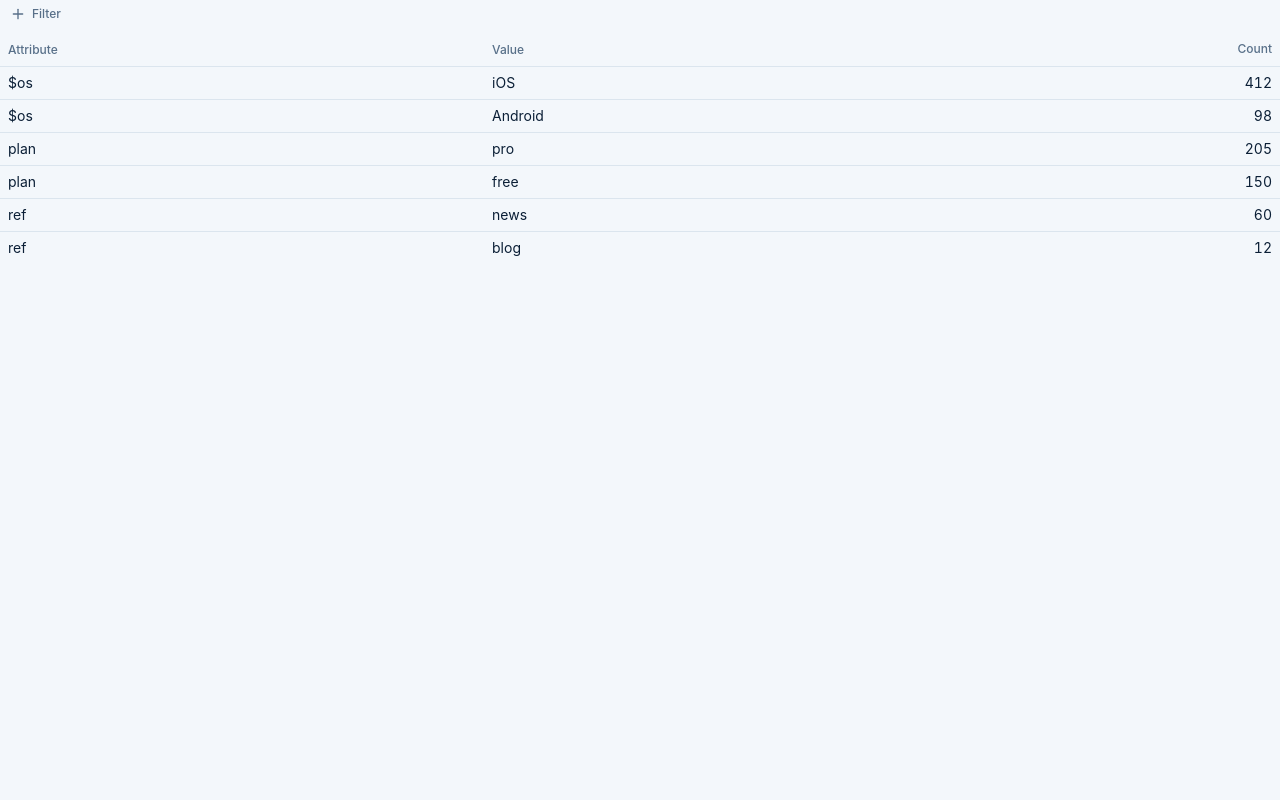
Test: table › asks a remote table's loader for the picker's values
Click the button "Filter": point(36, 14) [0,0,71,28]
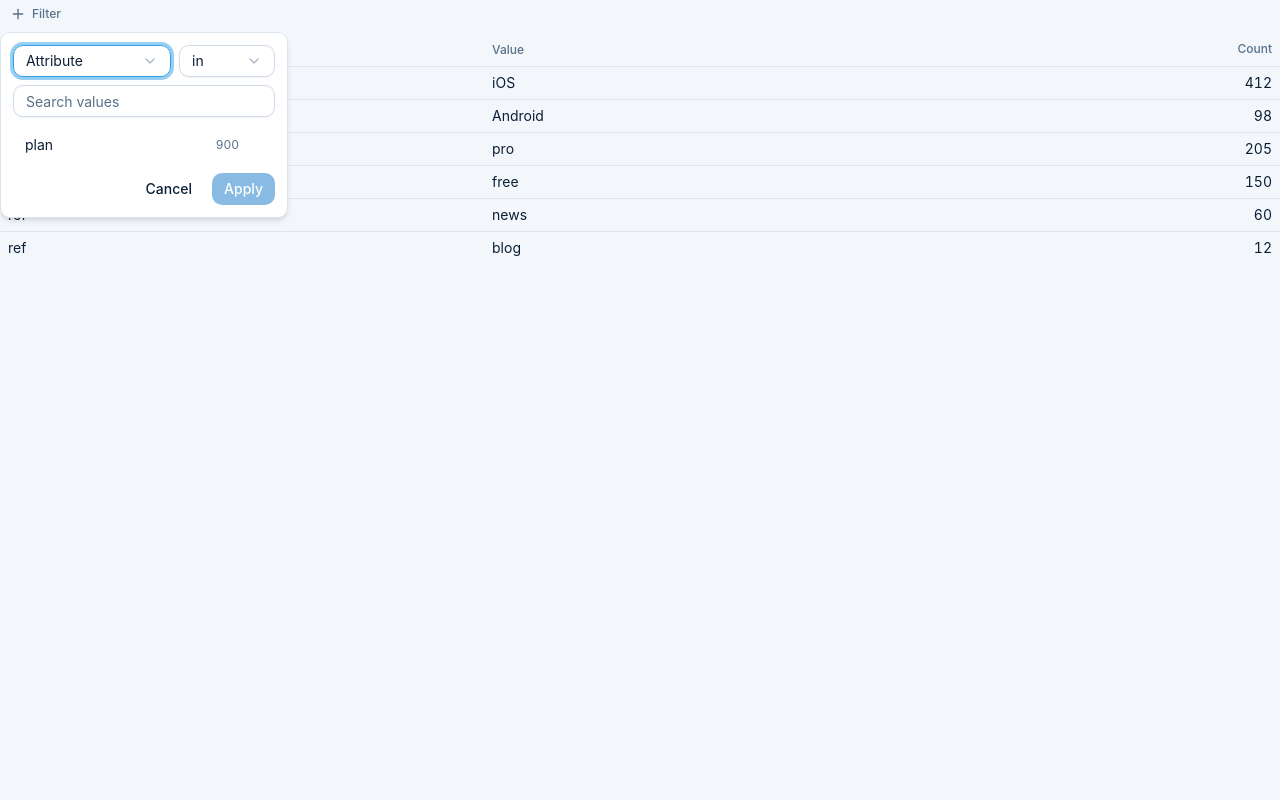
Now the option "plan 900" is shown, box [25,136,239,153]
